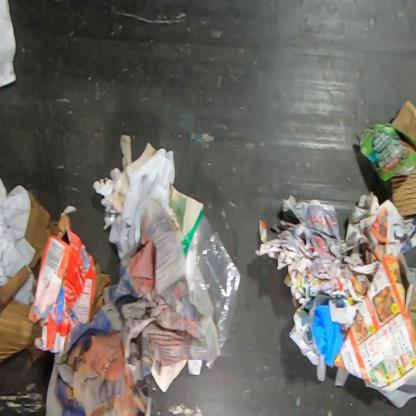cardboard: (28, 212, 96, 354), (358, 99, 415, 190), (0, 265, 44, 372), (24, 190, 58, 268), (390, 163, 416, 217), (91, 262, 112, 317)
soft_plastic: (181, 209, 241, 353), (203, 355, 221, 370)
